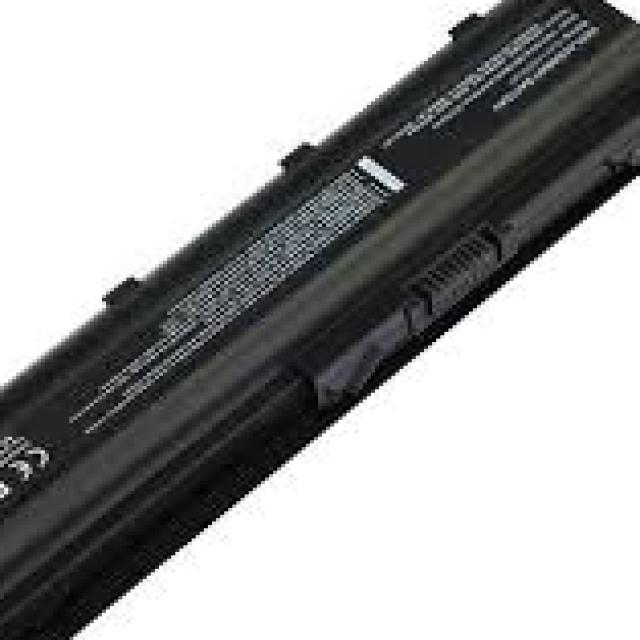organic: (6, 6, 635, 628)
